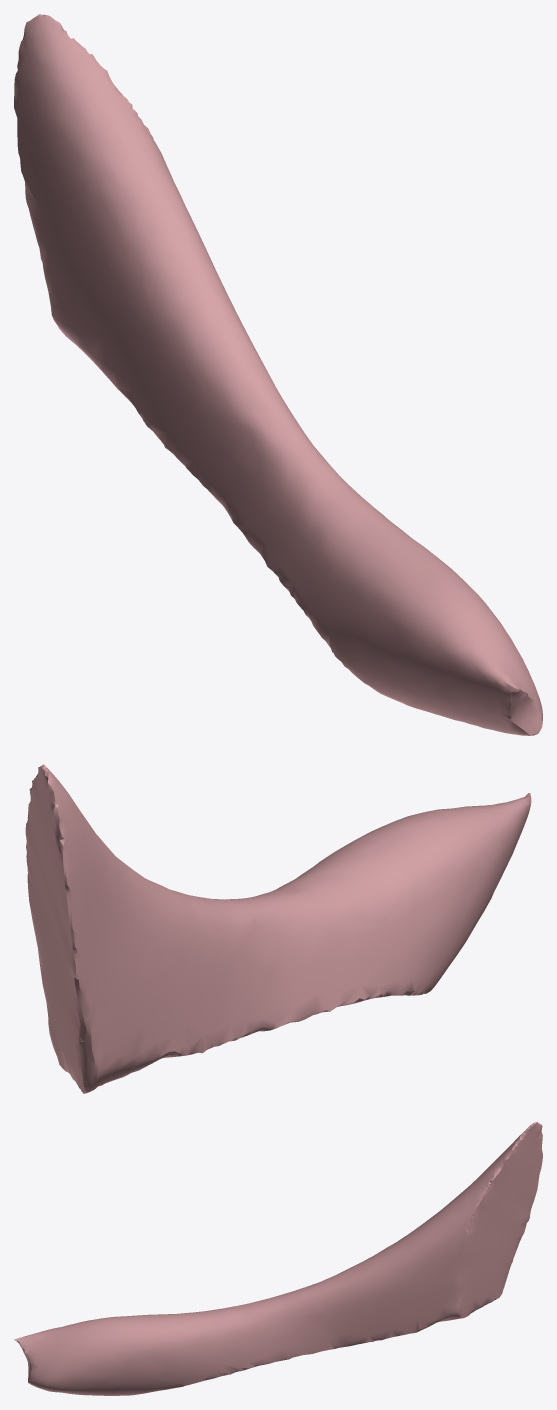
Rendered from fma55228_mm1190m.glb.
The picture shows the model from 3 angles, top to bottom: view 1: azimuth 30°, elevation 25°; view 2: azimuth 150°, elevation 25°; view 3: azimuth 270°, elevation 25°; orthographic projection. The views are drawn at different scales.
Parts seen in each view (by area): view 1: FMA55228_MM1190M; view 2: FMA55228_MM1190M; view 3: FMA55228_MM1190M.
Boxes of the visible parts, <box> form: FMA55228_MM1190M: <box>14,14,542,735</box>; FMA55228_MM1190M: <box>25,764,531,1093</box>; FMA55228_MM1190M: <box>14,1122,542,1395</box>.
Bounding box in the file's own units: 0.0021 × 0.00784 × 0.0145.
